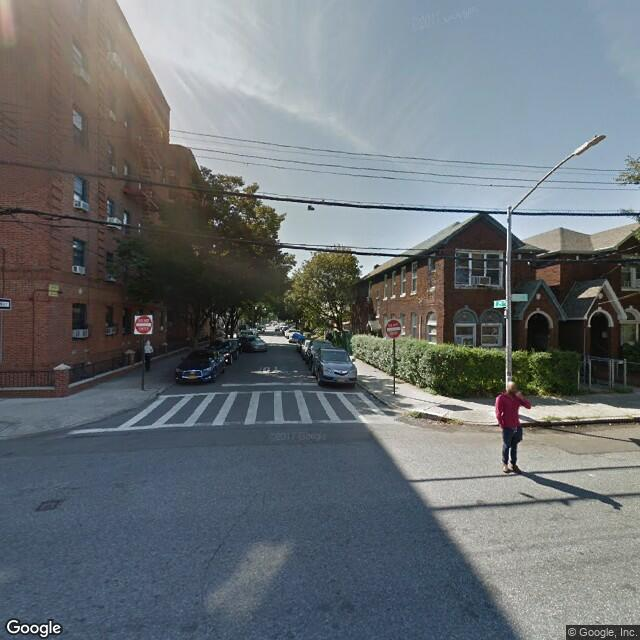litter: (605, 419, 613, 425), (572, 423, 580, 429), (557, 423, 565, 429)
